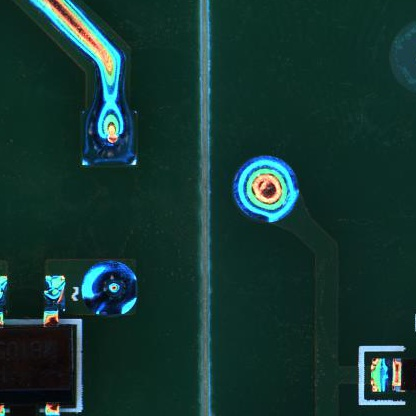spot: (230, 153, 299, 223), (82, 260, 138, 317)
